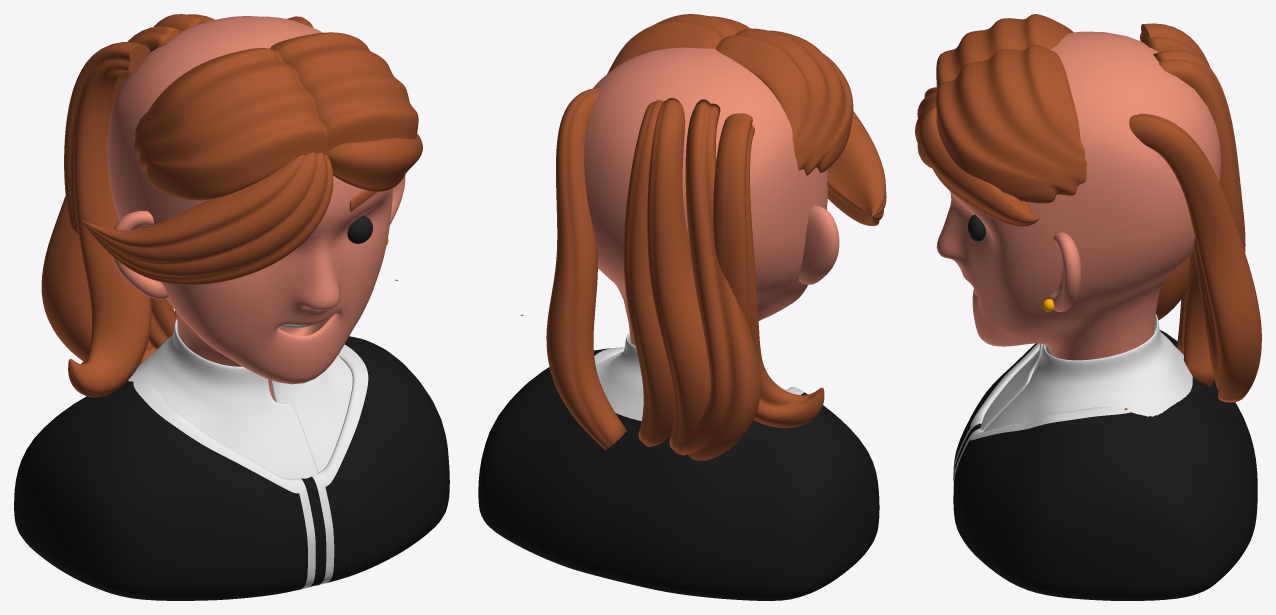
Rendered from scottish-girl-3d-icon-1361999776301.glb.
3 views of the same model, side by side, from view 1: azimuth 30°, elevation 25°; view 2: azimuth 150°, elevation 25°; view 3: azimuth 270°, elevation 25° (orthographic). The views are drawn at different scales.
Visible parts, largest first — view 1: Hair & Eyebrows, Shirt 1, Head, Shirt 2; view 2: Hair & Eyebrows, Shirt 1, Head, Shirt 2; view 3: Shirt 1, Hair & Eyebrows, Head, Shirt 2.
Part boxes in pixels (box(x1,y1,x2,y2)): Hair & Eyebrows: box(41, 14, 422, 397); Shirt 1: box(14, 336, 449, 600); Head: box(107, 16, 405, 401); Shirt 2: box(128, 318, 368, 589); Hair & Eyebrows: box(521, 14, 886, 460); Shirt 1: box(478, 348, 879, 600); Head: box(584, 47, 839, 345); Shirt 2: box(594, 333, 804, 420); Shirt 1: box(953, 330, 1257, 600); Hair & Eyebrows: box(915, 14, 1261, 410); Head: box(936, 31, 1220, 360); Shirt 2: box(953, 314, 1192, 484).
Bounding box in the file's own units: 1.39 × 1.86 × 1.18.
